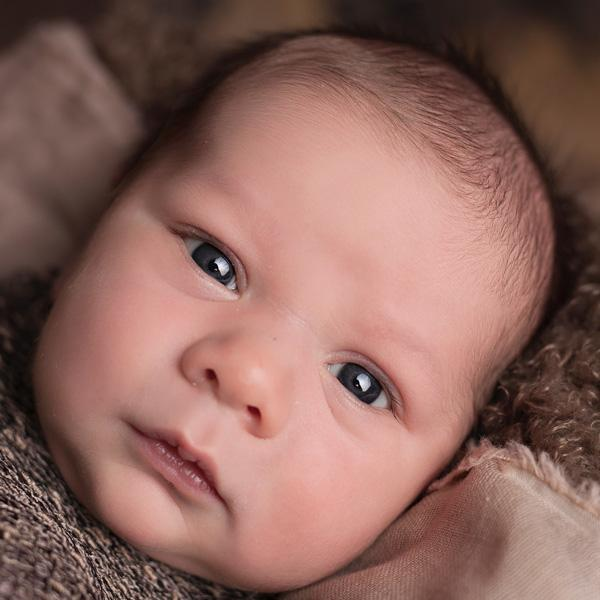Eyes: (156, 210, 250, 305), (315, 335, 404, 427)
